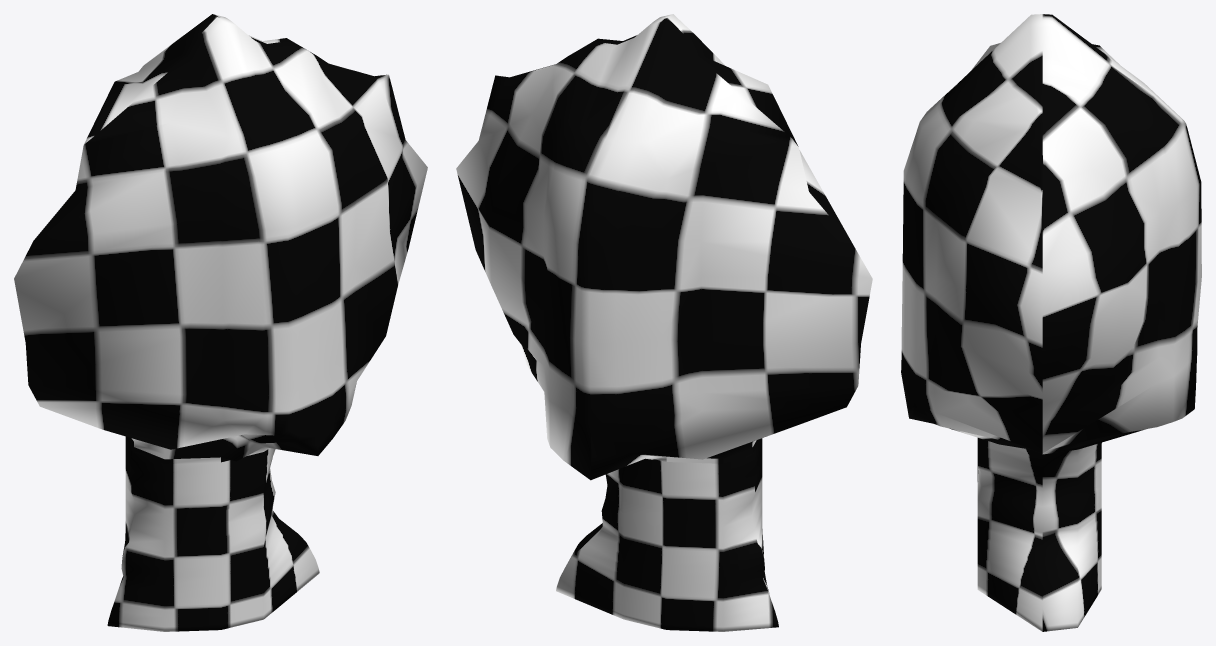
The model's file is tree.obj.
3 renders of one model, left to right at view 1: azimuth 30°, elevation 25°; view 2: azimuth 150°, elevation 25°; view 3: azimuth 270°, elevation 25°, orthographic. The views are drawn at different scales.
Parts seen in each view (by area): view 1: Cylinder001; view 2: Cylinder001; view 3: Cylinder001.
Boxes of the visible parts, x1,y1,x2,y2 form: Cylinder001: (14, 14, 427, 631); Cylinder001: (456, 14, 872, 631); Cylinder001: (901, 14, 1201, 631).
Size of the model in its own units: 3193 by 4278 by 2049.
